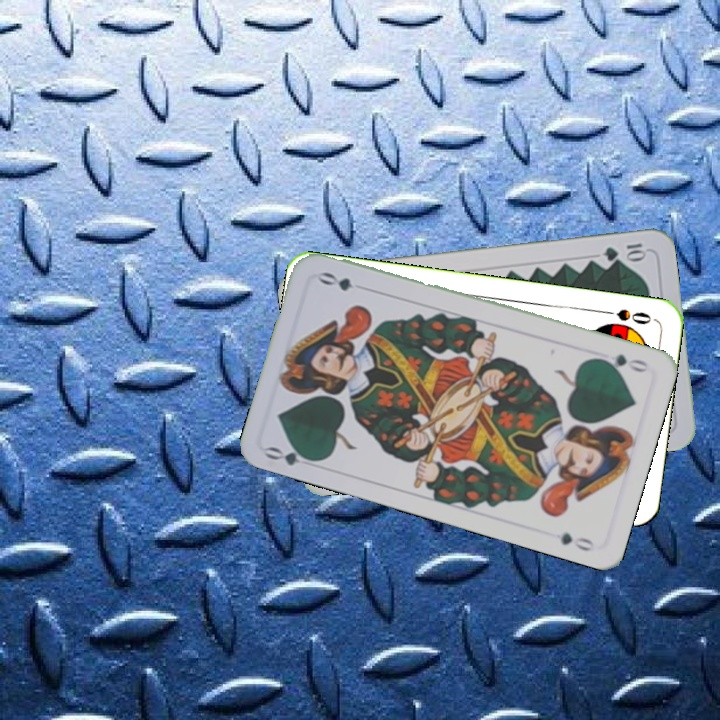G10: (600, 239, 649, 263)
GO: (261, 441, 322, 469), (593, 349, 651, 375)
SO: (598, 305, 657, 327)
